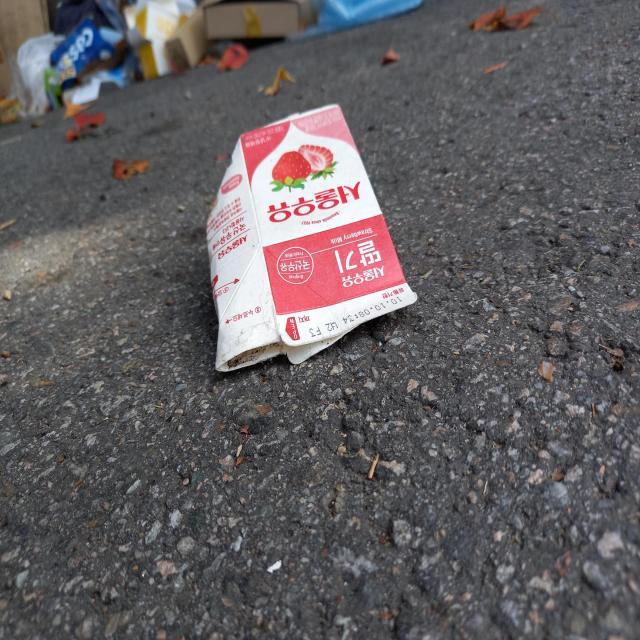paperpack: (206, 104, 417, 371)
